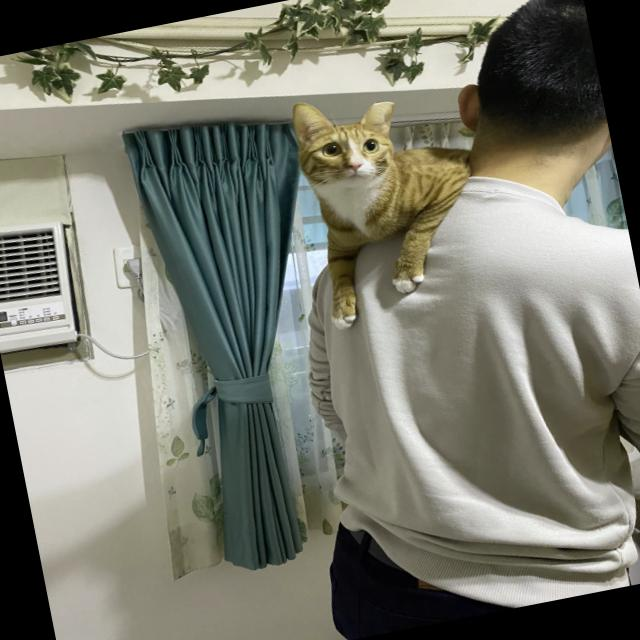cat3: (280, 70, 500, 337)
